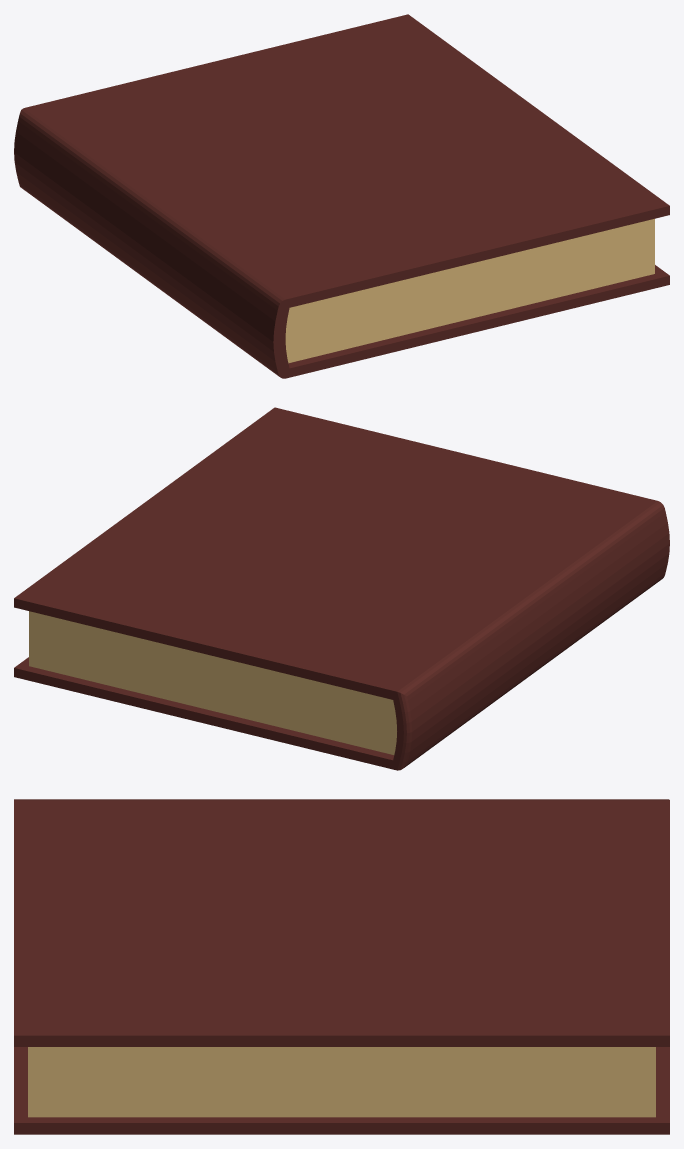
File: book.fbx
3 renders of one model, top to bottom at view 1: azimuth 30°, elevation 25°; view 2: azimuth 150°, elevation 25°; view 3: azimuth 270°, elevation 25°, orthographic. The views are drawn at different scales.
Visible parts, largest first — view 1: Cube; view 2: Cube; view 3: Cube.
Boxes of the visible parts, x1,y1,x2,y2 form: Cube: (14,14,669,378); Cube: (14,407,669,770); Cube: (14,799,669,1134).
Bounding box in the file's own units: 2.1 × 0.4 × 2.4.
